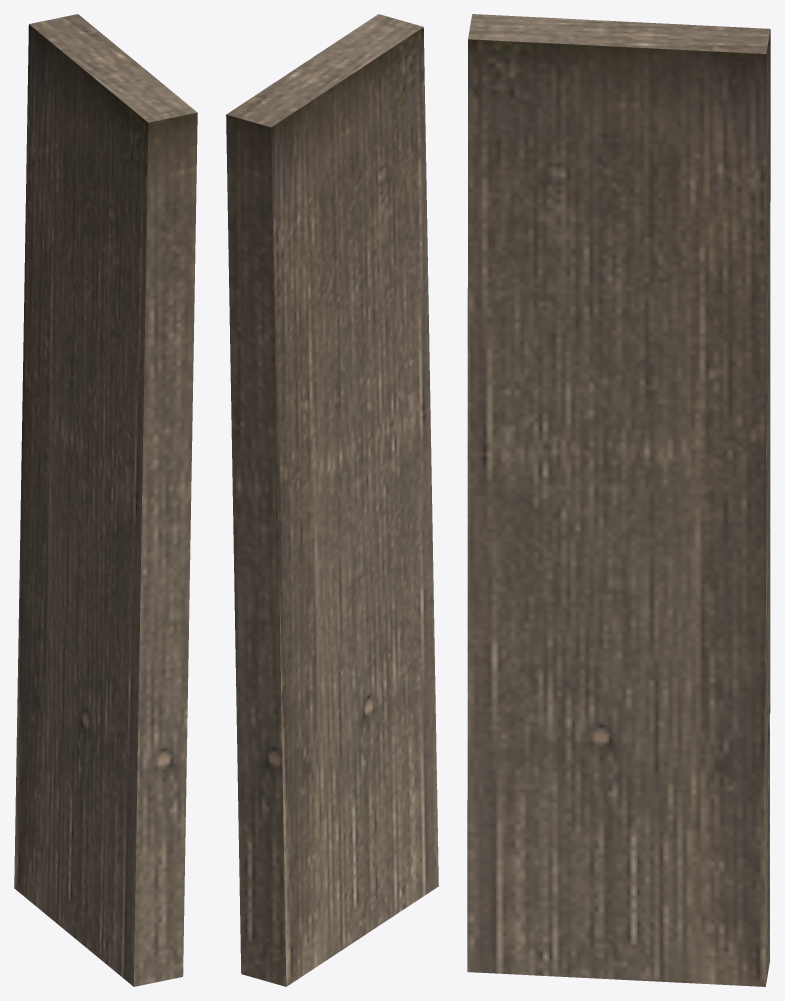
File: SM_Chateaux_01_planchette.fbx
3 renders of one model, left to right at view 1: azimuth 30°, elevation 25°; view 2: azimuth 150°, elevation 25°; view 3: azimuth 270°, elevation 25°, orthographic. The views are drawn at different scales.
Visible parts, largest first — view 1: SM_Chateaux_01_planchette; view 2: SM_Chateaux_01_planchette; view 3: SM_Chateaux_01_planchette.
Part boxes in pixels (left/top/right/bottom): SM_Chateaux_01_planchette: left=14, top=14, right=197, bottom=986; SM_Chateaux_01_planchette: left=226, top=14, right=438, bottom=986; SM_Chateaux_01_planchette: left=467, top=14, right=770, bottom=986.
Bounding box in the file's own units: 22.65 × 237 × 68.84.
